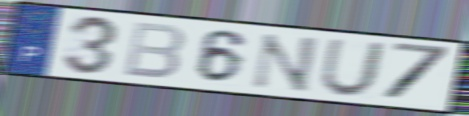3: (61, 14, 120, 77)
6: (191, 28, 249, 86)
7: (384, 40, 454, 105)
B: (120, 20, 188, 81)
N: (248, 32, 321, 95)
U: (316, 37, 389, 99)
